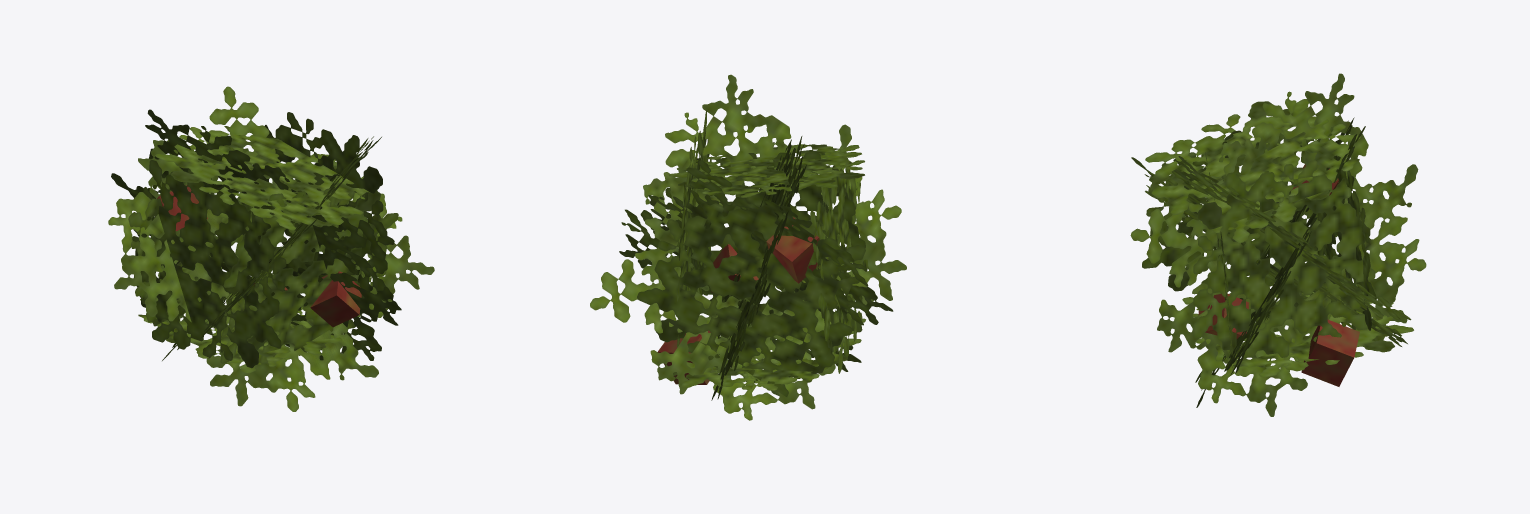
Rendered from apple_leaves_3.obj.
3 views of the same model, side by side, from view 1: azimuth 30°, elevation 25°; view 2: azimuth 150°, elevation 25°; view 3: azimuth 270°, elevation 25° (orthographic). The views are drawn at different scales.
Parts seen in each view (by area): view 1: south, west, east, bottom, north, cube, top; view 2: east, west, south, bottom, top, cube, north; view 3: east, north, bottom, south, west, cube, top.
Boxes of the visible parts, bbox=[...] form: south: bbox=[108, 86, 434, 411]; west: bbox=[162, 136, 398, 363]; east: bbox=[111, 109, 401, 360]; bottom: bbox=[155, 126, 369, 230]; north: bbox=[248, 112, 388, 301]; cube: bbox=[157, 185, 361, 327]; top: bbox=[138, 292, 343, 373]; east: bbox=[637, 136, 865, 400]; west: bbox=[590, 74, 906, 420]; south: bbox=[619, 160, 893, 373]; bottom: bbox=[669, 144, 864, 197]; top: bbox=[669, 313, 865, 390]; cube: bbox=[657, 217, 819, 384]; north: bbox=[677, 110, 711, 347]; east: bbox=[1130, 73, 1426, 416]; north: bbox=[1193, 160, 1375, 358]; bottom: bbox=[1145, 99, 1360, 242]; south: bbox=[1142, 117, 1365, 407]; west: bbox=[1131, 152, 1411, 367]; cube: bbox=[1198, 164, 1359, 386]; top: bbox=[1182, 291, 1413, 377].
Bounding box in the file's own units: 2.25 × 1.98 × 2.27.
